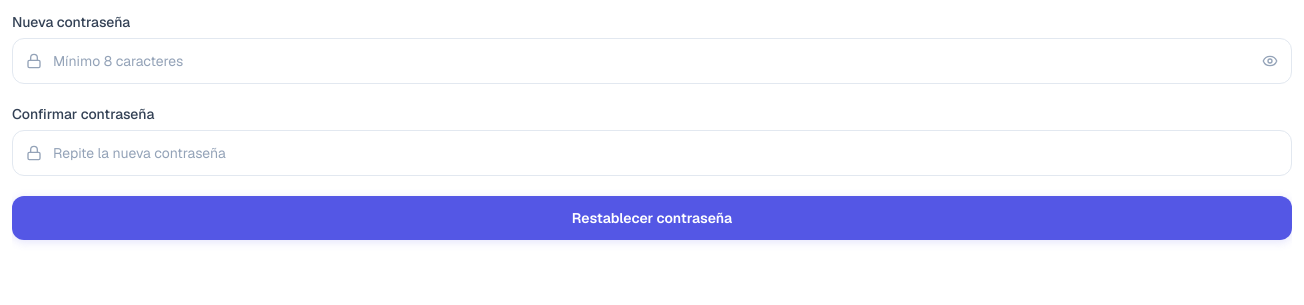
Test case: ResetPasswordForm › muestra error de contraseña menor a 8 caracteres
Type "corta" into the password field labelled "Nueva contraseña" at (652, 61), box [12, 38, 1292, 84]
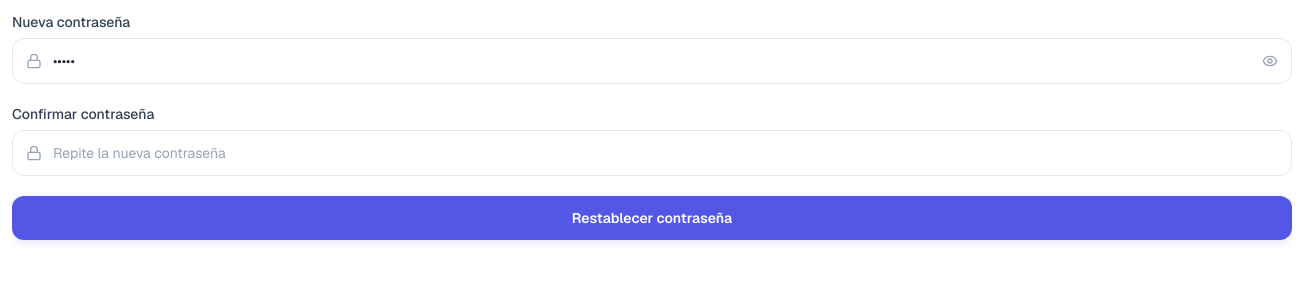
Type "corta" into the password field labelled "Confirmar contraseña" at (652, 153), box [12, 130, 1292, 176]
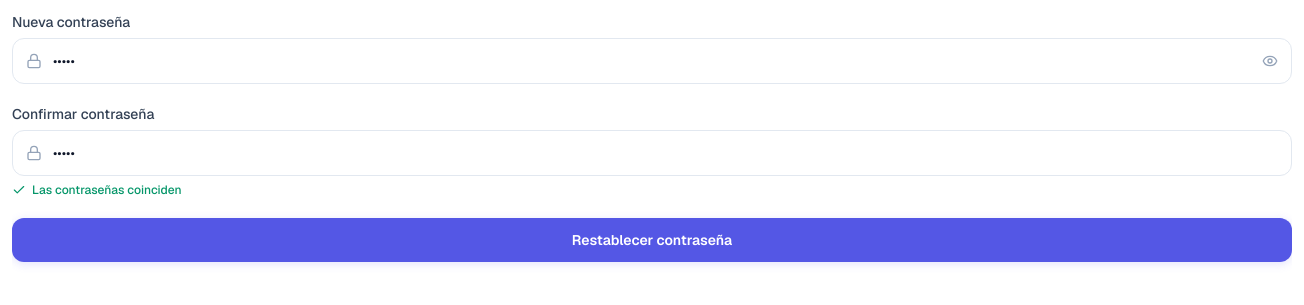
Click the button "Restablecer contraseña" at (652, 240), box [12, 218, 1292, 262]
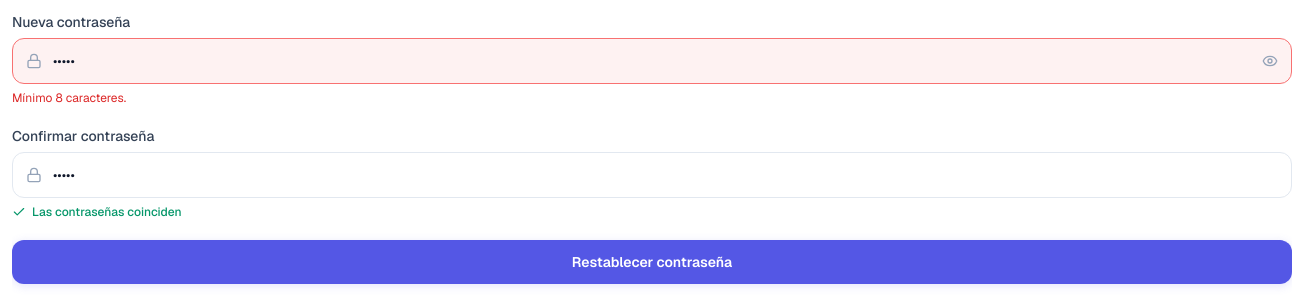
Check: the text "Mínimo 8 caracteres." is shown, box [12, 90, 126, 106]
